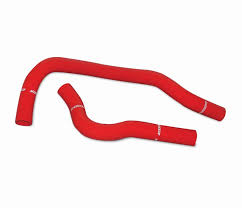radiator_hose: (17, 57, 227, 125), (58, 83, 196, 147)
